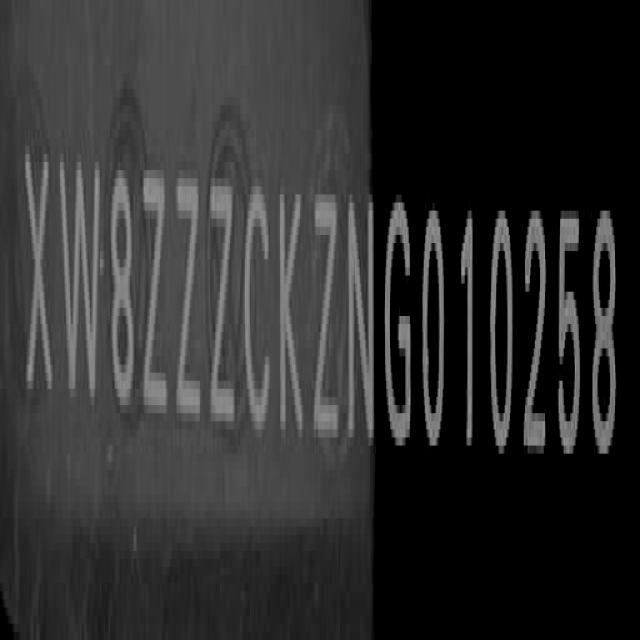0: (420, 187, 448, 457), (488, 196, 515, 461)
1: (461, 190, 480, 457)
2: (524, 202, 550, 466)
5: (557, 195, 581, 462)
8: (594, 204, 621, 462), (112, 160, 136, 421)
C: (244, 173, 273, 446)
G: (387, 183, 417, 460)
K: (278, 172, 307, 451)
N: (346, 181, 378, 450)
W: (58, 135, 102, 417)
X: (24, 130, 54, 418)
Z: (313, 172, 342, 457), (210, 161, 237, 438), (178, 153, 204, 436), (141, 155, 167, 432)
